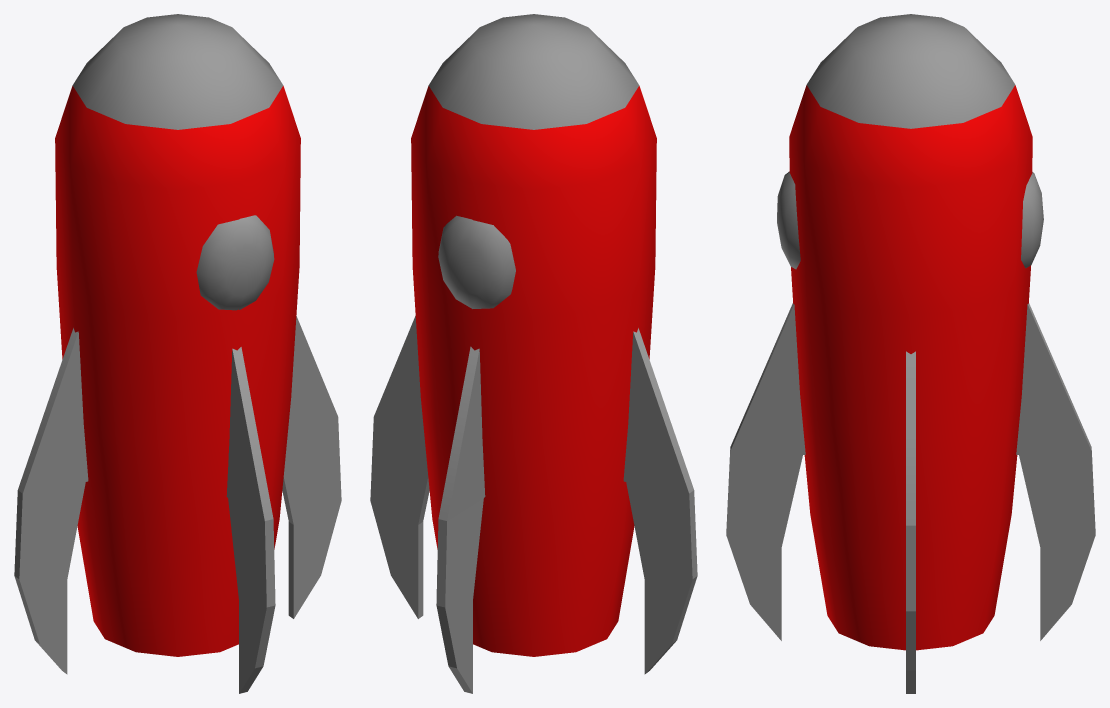
The model's file is model_ship05.FBX.
3 renders of one model, left to right at view 1: azimuth 30°, elevation 25°; view 2: azimuth 150°, elevation 25°; view 3: azimuth 270°, elevation 25°, orthographic.
Parts seen in each view (by area): view 1: mesh_ship05; view 2: mesh_ship05; view 3: mesh_ship05.
Part boxes in pixels (x1=…): mesh_ship05: x1=14, y1=14, x2=341, y2=693; mesh_ship05: x1=370, y1=14, x2=697, y2=693; mesh_ship05: x1=726, y1=14, x2=1095, y2=693.
Bounding box in the file's own units: 22.33 × 41.07 × 22.37.
